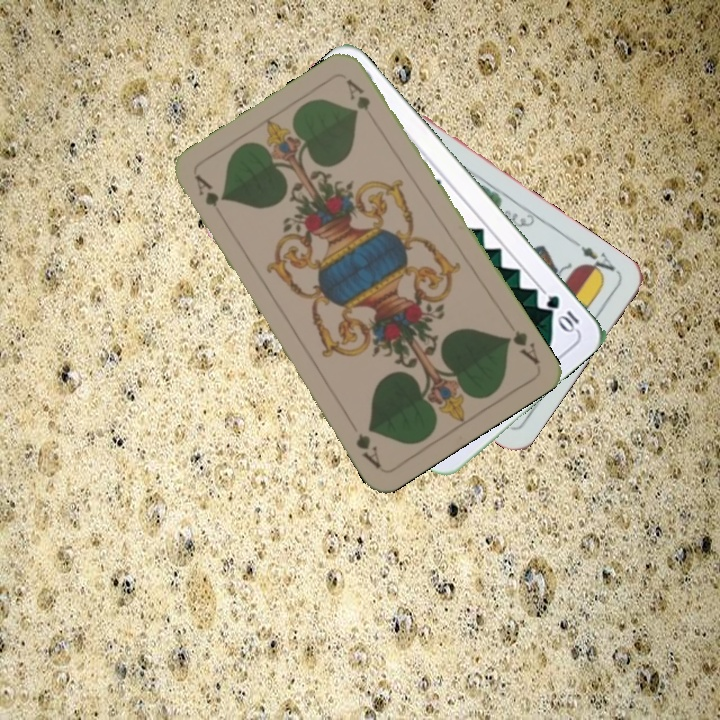EA: (568, 236, 620, 281)
G10: (542, 291, 582, 335)
GA: (501, 326, 543, 368), (190, 170, 224, 218)
